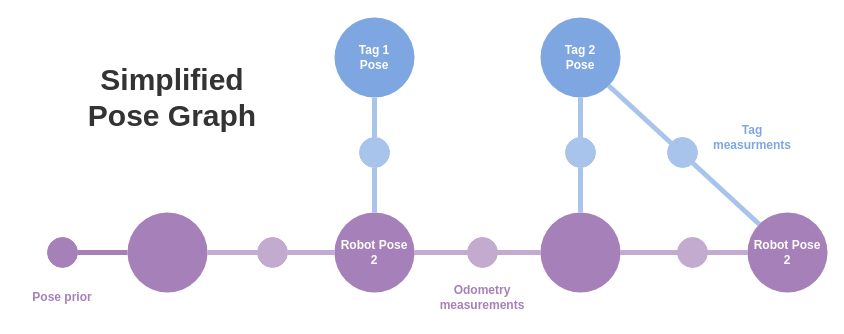
Some shapes in this 844 by 334 pixel diagram are drawn without their labels. The centre of each missing label's shape, as x and y in pixels:
Robot Pose 1: [167,252]
Robot Pose 3: [580,252]
